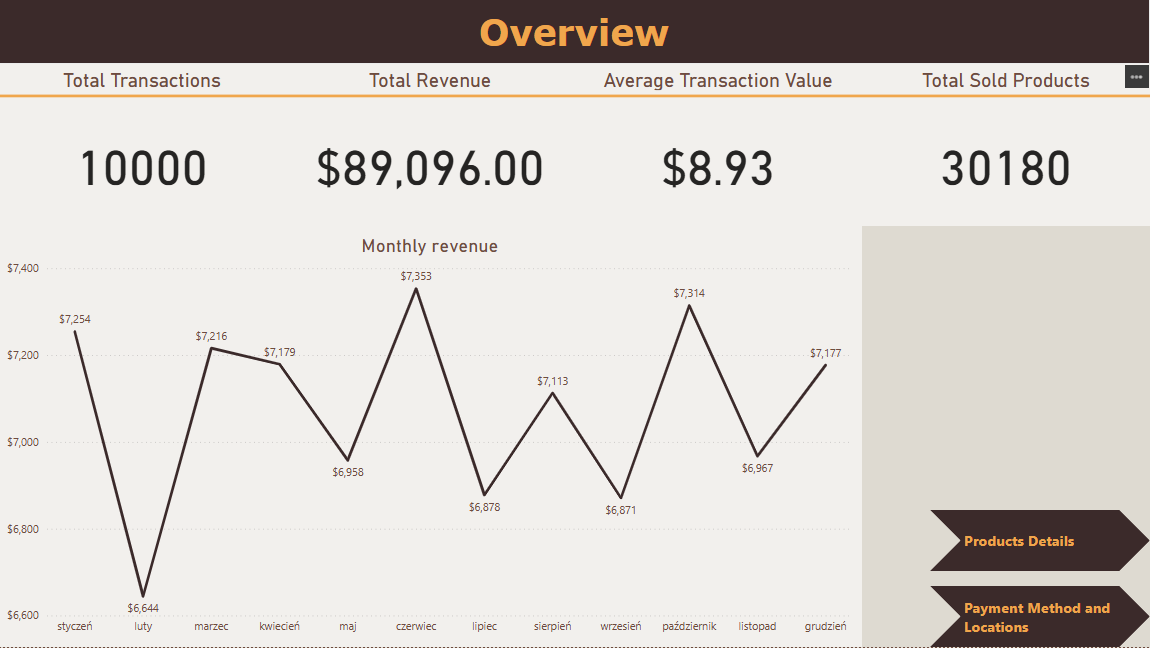

The page's visual inventory and layout, read from the dashboard file:
{"tool":"powerbi","page":{"name":"Overview","canvas":[1280,720],"ordinal":0},"visuals":[{"type":"card","title":"Total Sold Products","fields":{"Values":["Sum(CafeSalesFinal.Quantity)"]},"box":[960,72.2,320,180],"z":0},{"type":"card","title":"Average Transaction Value","fields":{"Values":["Avg(CafeSalesFinal.Total_Spent)"]},"box":[640,72.3,320,180],"z":1000},{"type":"card","title":"Total Revenue","fields":{"Values":["Sum(CafeSalesFinal.Total_Spent)"]},"box":[320,72.2,320,180],"z":2000},{"type":"card","title":"Total Transactions","fields":{"Values":["CountNonNull(CafeSalesFinal.Transaction_ID)"]},"box":[0,72.2,320,180],"z":3000},{"type":"lineChart","title":"Monthly revenue","fields":{"Category":["Calendar.MonthName"],"Y":["Sum(CafeSalesFinal.Total_Spent)"]},"box":[0,252.2,960,467.8],"z":4000},{"type":"shape","title":"jghj","box":[0,0,1280,72.2],"z":5000},{"type":"actionButton","box":[1035.6,567.8,244.4,67.8],"z":6000},{"type":"actionButton","box":[1035.6,652.2,244.4,67.8],"z":7000}]}

Visuals, with their boxes in screenshot pixels (x1, y1, x2, y2), scaled from the page's 1280x720 canvas onto the 1150x648 screenshot:
"Total Sold Products" card: [862, 65, 1149, 227]
"Average Transaction Value" card: [575, 65, 862, 227]
"Total Revenue" card: [288, 65, 575, 227]
"Total Transactions" card: [0, 65, 288, 227]
"Monthly revenue" lineChart: [0, 227, 862, 647]
"jghj" shape: [0, 0, 1149, 65]
actionButton: [930, 511, 1149, 572]
actionButton: [930, 587, 1149, 647]
